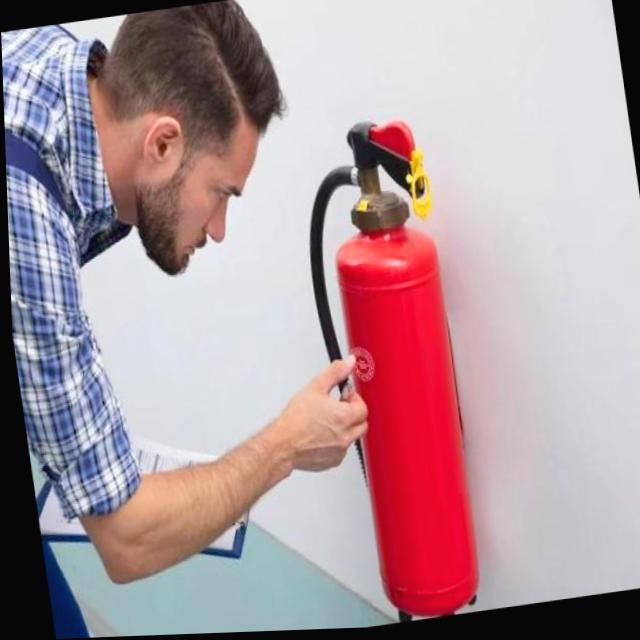FireExtinguisher: (278, 98, 492, 631)
